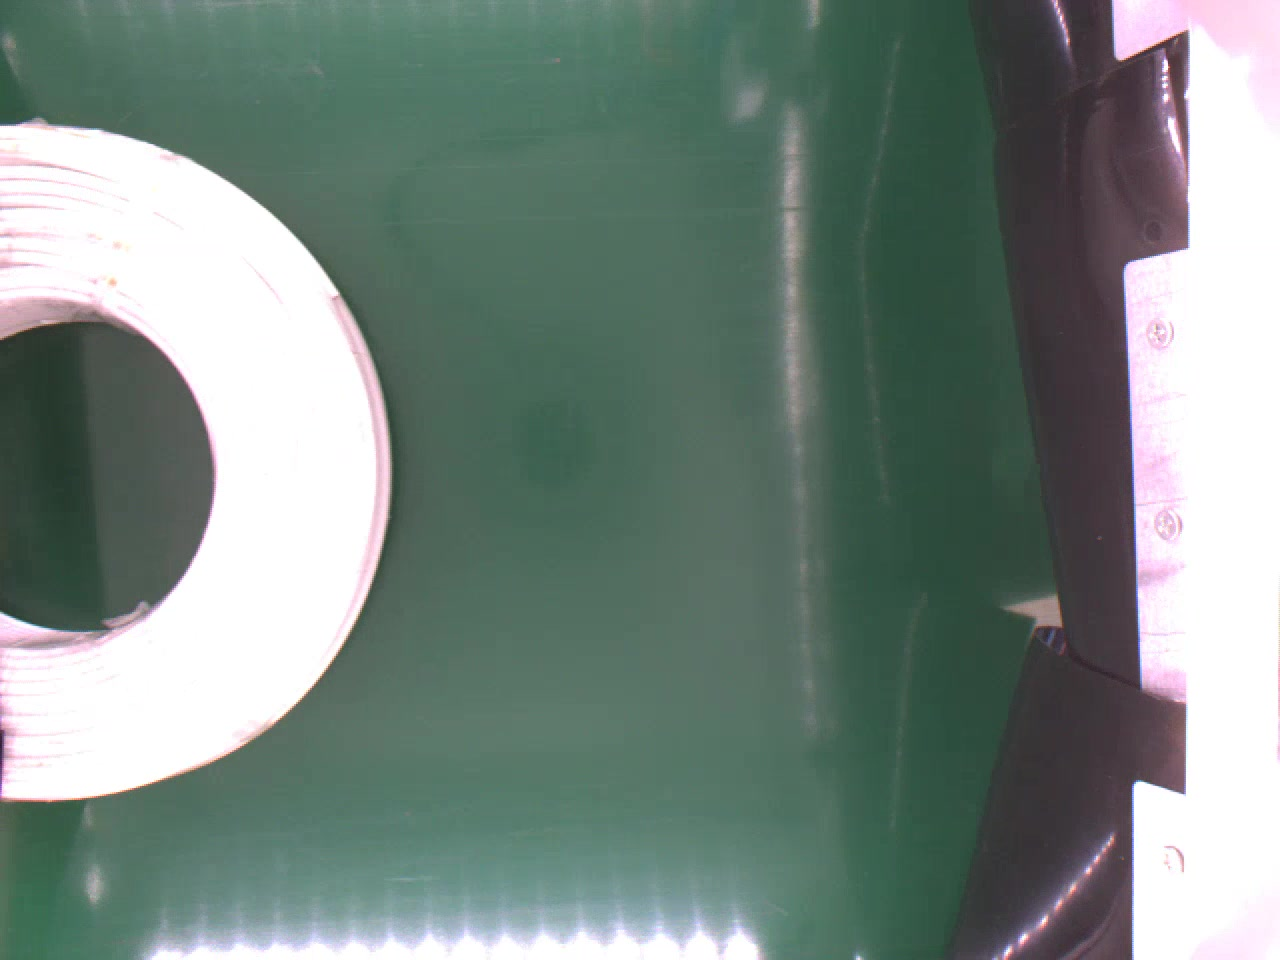white: (0, 119, 395, 801)
